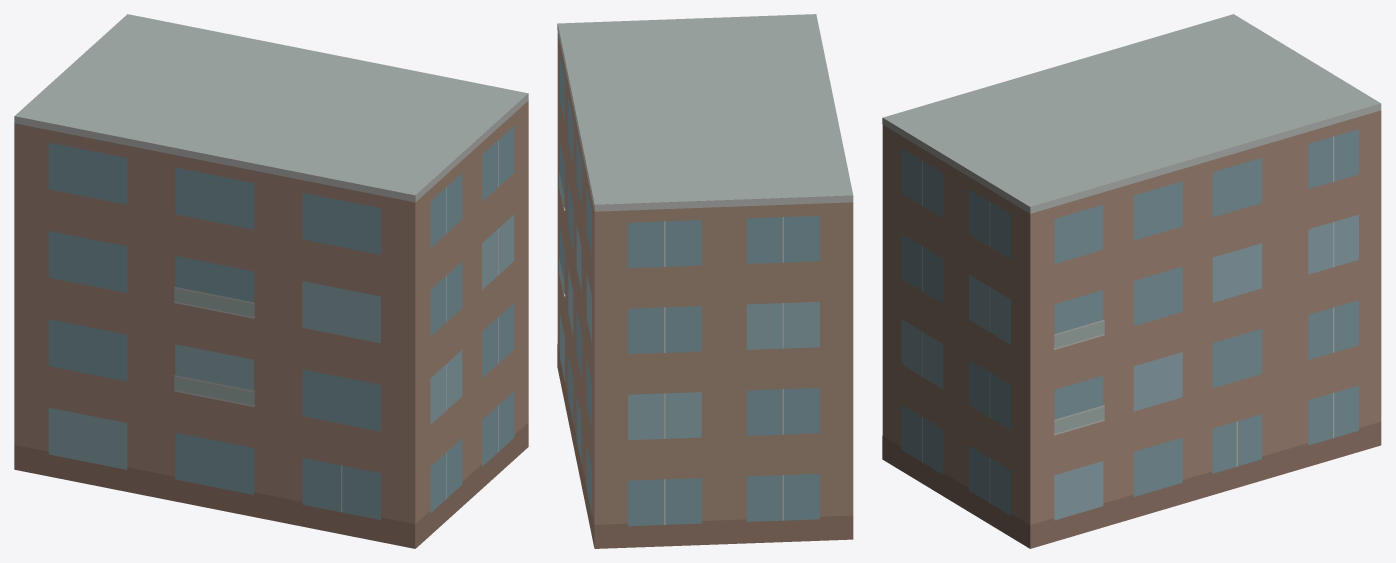
File: residential-9e4d079a-c696-4ad4-a130-cd5ed76c91dd.glb
The picture shows the model from 3 angles, left to right: view 1: azimuth 30°, elevation 25°; view 2: azimuth 150°, elevation 25°; view 3: azimuth 270°, elevation 25°; orthographic projection. The views are drawn at different scales.
Visible parts, largest first — view 1: residential-9e4d079a-c696-4ad4-a130-cd5ed76c91dd.tmp; view 2: residential-9e4d079a-c696-4ad4-a130-cd5ed76c91dd.tmp; view 3: residential-9e4d079a-c696-4ad4-a130-cd5ed76c91dd.tmp.
Boxes of the visible parts, <box> form: residential-9e4d079a-c696-4ad4-a130-cd5ed76c91dd.tmp: <box>14,14,528,548</box>; residential-9e4d079a-c696-4ad4-a130-cd5ed76c91dd.tmp: <box>557,14,853,548</box>; residential-9e4d079a-c696-4ad4-a130-cd5ed76c91dd.tmp: <box>882,14,1381,548</box>.
Bounding box in the file's own units: 14.78 × 12.2 × 16.14.
